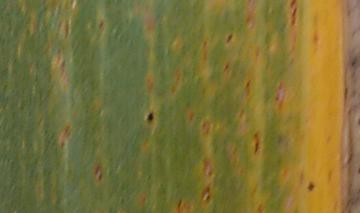tarspot: (252, 128, 260, 155), (145, 109, 155, 124), (290, 7, 297, 26), (304, 181, 315, 192), (225, 32, 235, 44), (96, 19, 105, 29), (222, 63, 231, 72), (243, 79, 252, 88), (348, 58, 357, 67), (287, 1, 297, 9), (356, 165, 360, 173)
